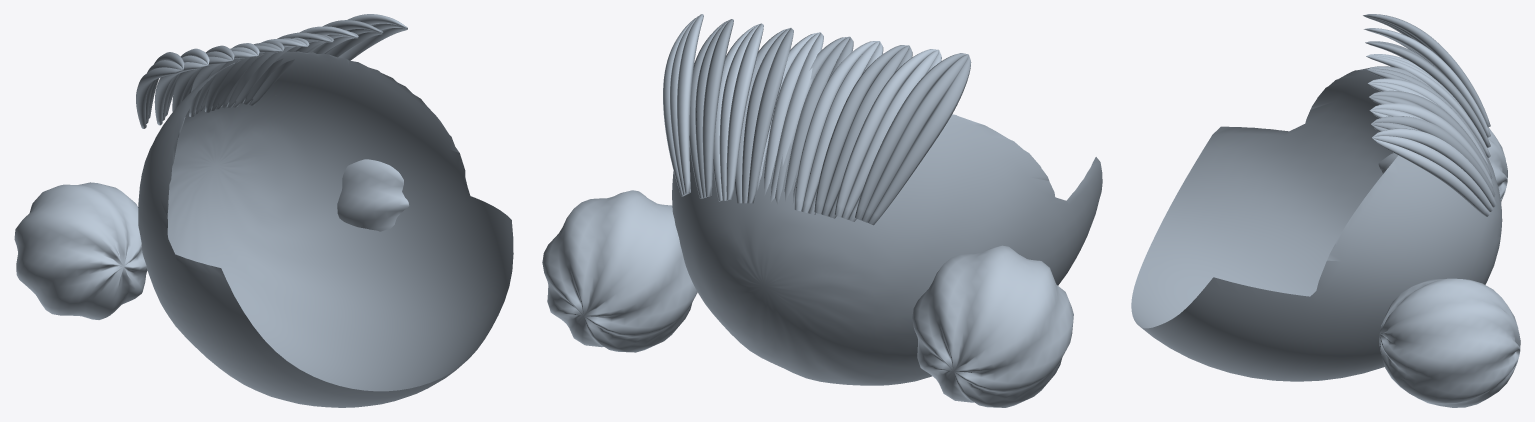
The picture shows the model from 3 angles, left to right: view 1: azimuth 30°, elevation 25°; view 2: azimuth 150°, elevation 25°; view 3: azimuth 270°, elevation 25°; orthographic projection. The views are drawn at different scales.
Visible parts, largest first — view 1: CrownHair_ref07, Hair_Bun_L, Hair_Bun_R, FrontHair_00_Strand2, FrontHair_01_Strand2, FrontHair_06_Strand0, FrontHair_04_Strand2, FrontHair_05_Strand0, FrontHair_02_Strand2, FrontHair_05_Strand1, FrontHair_03_Strand2, FrontHair_09_Strand0 (+4 smaller); view 2: CrownHair_ref07, Hair_Bun_L, Hair_Bun_R, FrontHair_00_Strand2, FrontHair_00_Strand0, FrontHair_01_Strand0, FrontHair_00_Strand1, FrontHair_02_Strand0, FrontHair_03_Strand0, FrontHair_06_Strand2, FrontHair_07_Strand2, FrontHair_08_Strand2 (+17 smaller); view 3: CrownHair_ref07, Hair_Bun_R, FrontHair_09_Strand2, FrontHair_01_Strand0, FrontHair_09_Strand0, FrontHair_00_Strand0, FrontHair_09_Strand1, FrontHair_02_Strand0, FrontHair_08_Strand2, FrontHair_07_Strand2, FrontHair_03_Strand0, FrontHair_06_Strand2 (+3 smaller).
Boxes of the visible parts, box(x1,y1,x2,y2) form: CrownHair_ref07: box(138, 51, 513, 407); Hair_Bun_L: box(14, 182, 147, 319); Hair_Bun_R: box(337, 159, 409, 231); FrontHair_00_Strand2: box(136, 67, 182, 128); FrontHair_01_Strand2: box(154, 62, 207, 125); FrontHair_06_Strand0: box(249, 35, 334, 105); FrontHair_04_Strand2: box(204, 45, 282, 112); FrontHair_05_Strand0: box(232, 37, 309, 107); FrontHair_02_Strand2: box(172, 56, 232, 111); FrontHair_05_Strand1: box(227, 38, 307, 107); FrontHair_03_Strand2: box(189, 51, 257, 117); FrontHair_09_Strand0: box(338, 26, 407, 60); CrownHair_ref07: box(672, 114, 1102, 385); Hair_Bun_L: box(912, 245, 1073, 407); Hair_Bun_R: box(542, 190, 697, 352); FrontHair_00_Strand2: box(868, 55, 971, 225); FrontHair_00_Strand0: box(855, 53, 967, 220); FrontHair_01_Strand0: box(834, 49, 938, 217); FrontHair_00_Strand1: box(862, 54, 968, 222); FrontHair_02_Strand0: box(814, 45, 908, 214); FrontHair_03_Strand0: box(794, 41, 879, 211); FrontHair_06_Strand2: box(747, 28, 793, 203); FrontHair_07_Strand2: box(726, 23, 763, 200); FrontHair_08_Strand2: box(702, 19, 733, 196); CrownHair_ref07: box(1131, 67, 1502, 381); Hair_Bun_R: box(1379, 278, 1520, 407); FrontHair_09_Strand2: box(1372, 128, 1496, 207); FrontHair_01_Strand0: box(1364, 28, 1490, 137); FrontHair_09_Strand0: box(1372, 138, 1489, 216); FrontHair_00_Strand0: box(1363, 14, 1490, 127); FrontHair_09_Strand1: box(1372, 136, 1493, 211); FrontHair_02_Strand0: box(1365, 42, 1490, 147); FrontHair_08_Strand2: box(1371, 116, 1495, 196); FrontHair_07_Strand2: box(1370, 103, 1493, 187); FrontHair_03_Strand0: box(1366, 56, 1490, 157); FrontHair_06_Strand2: box(1369, 90, 1492, 178).
Size of the model in its own units: 0.8466 by 0.5921 by 0.6854.
